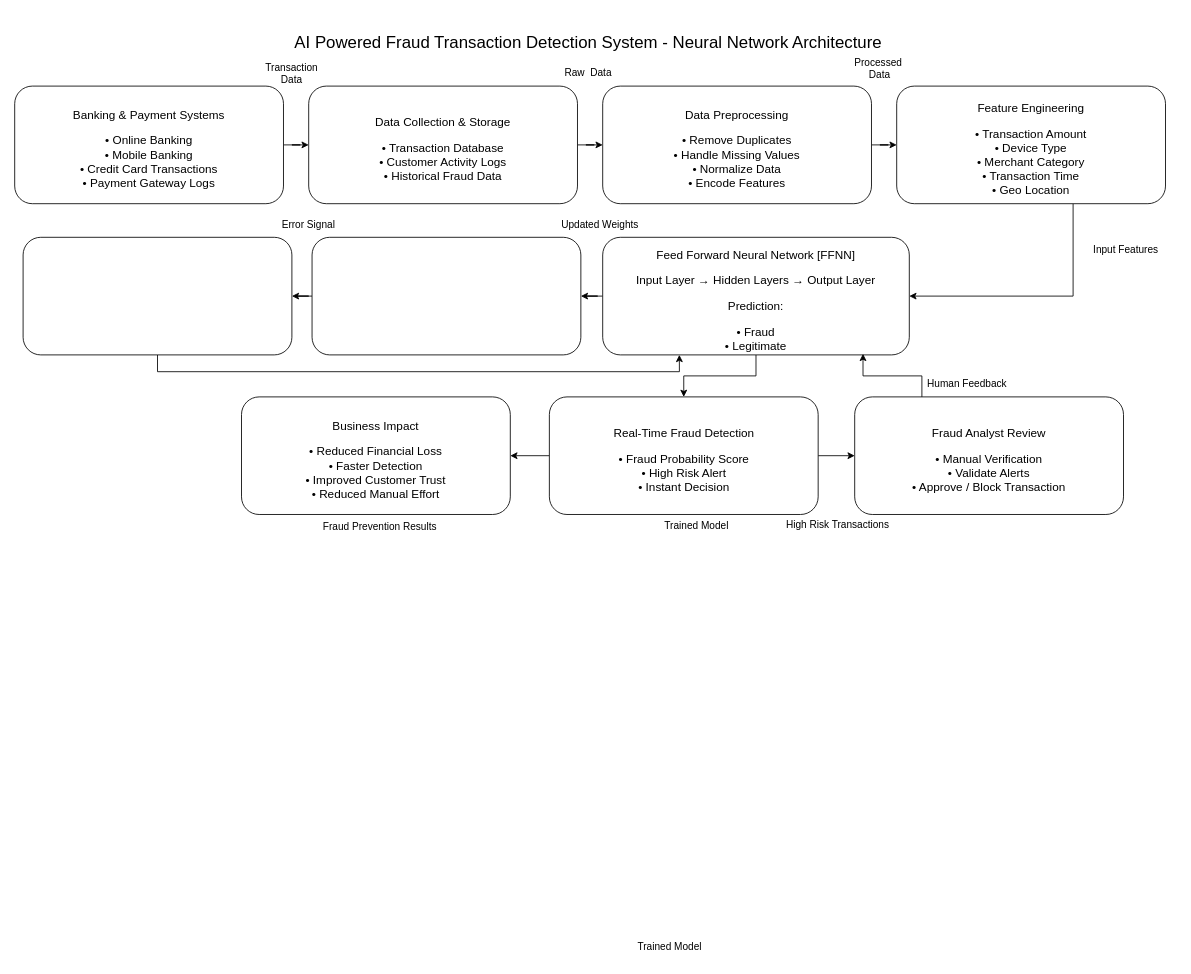
Some shapes in this 1191 by 974 pixel diagram are drawn without their labels. Here are the shapes that lost their labels. From the top down, the box of each, then its label:
(22, 236, 292, 355): Backpropagation • Gradient Calculation • Weight Update • Adam Optimizer
(311, 236, 581, 355): Loss Calculation • Binary Cross Entropy Loss • Prediction Error
